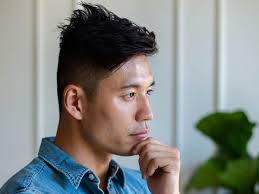asian_male: (26, 7, 167, 177)
